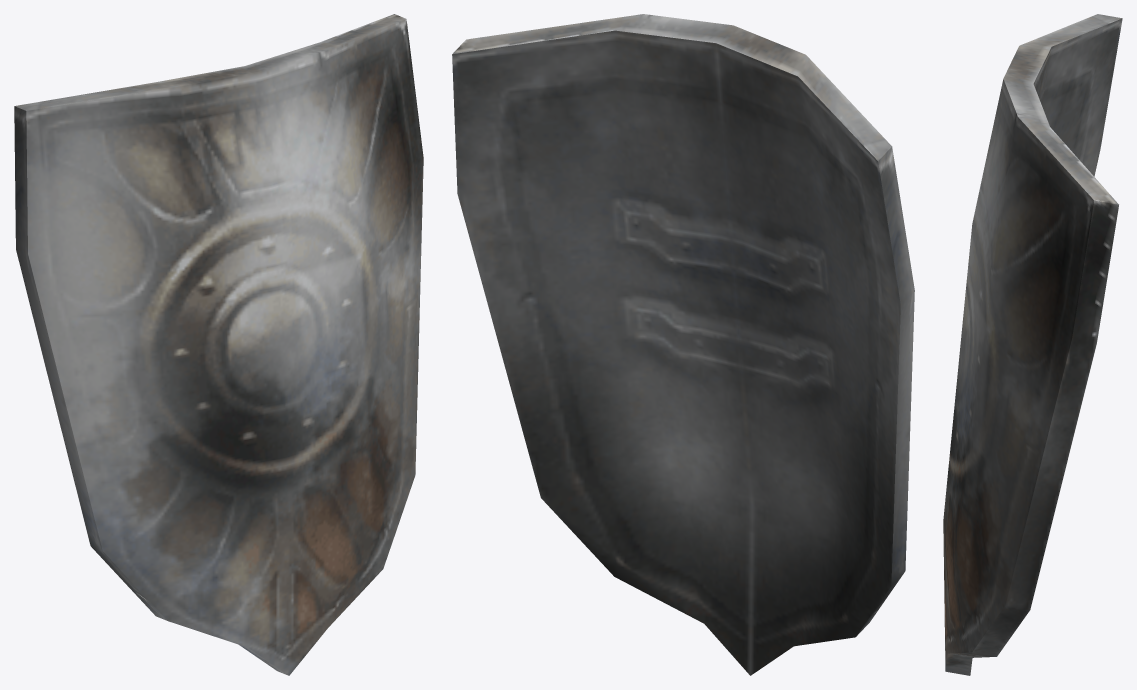
Rendered from 2005_Item_bingpi_5.FBX.
3 views of the same model, side by side, from view 1: azimuth 30°, elevation 25°; view 2: azimuth 150°, elevation 25°; view 3: azimuth 270°, elevation 25° (orthographic). The views are drawn at different scales.
Parts seen in each view (by area): view 1: 2005_Item_bingpi_5; view 2: 2005_Item_bingpi_5; view 3: 2005_Item_bingpi_5.
Boxes of the visible parts, x1=… form: 2005_Item_bingpi_5: x1=14, y1=14, x2=423, y2=675; 2005_Item_bingpi_5: x1=452, y1=14, x2=914, y2=675; 2005_Item_bingpi_5: x1=943, y1=14, x2=1122, y2=675.
Size of the model in its own units: 68.23 by 97.23 by 26.49.
